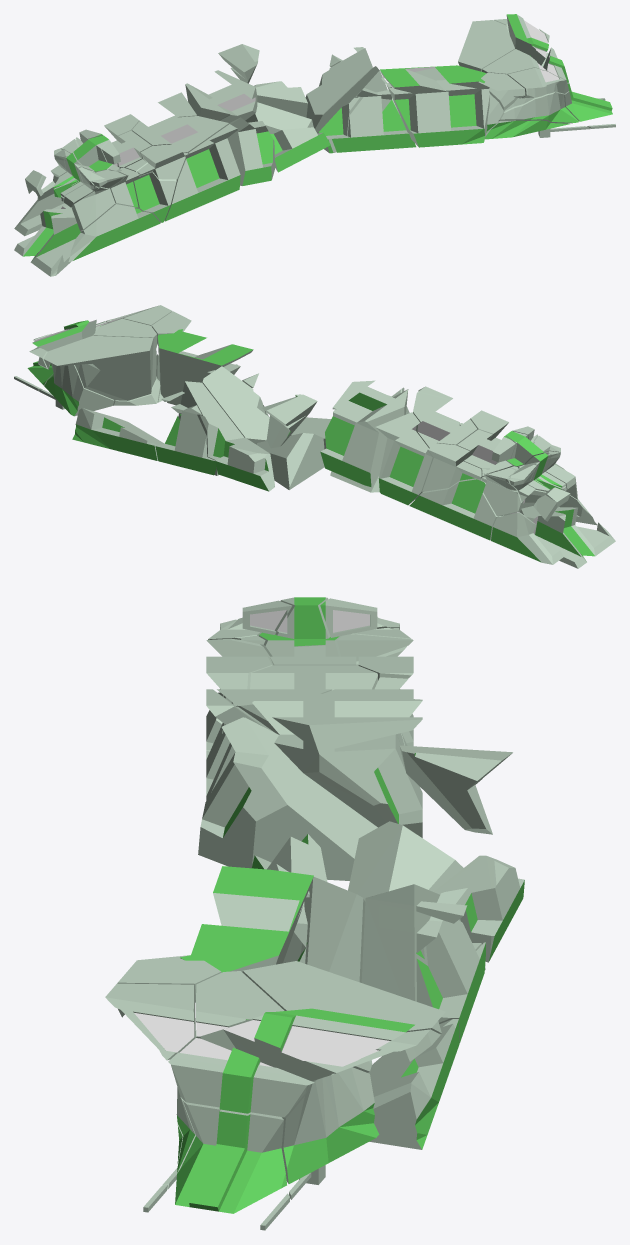
Rendered from Drednaught-Shatter1.fbx.
3 renders of one model, top to bottom at view 1: azimuth 30°, elevation 25°; view 2: azimuth 150°, elevation 25°; view 3: azimuth 270°, elevation 25°, orthographic. The views are drawn at different scales.
Visible parts, largest first — view 1: DeadnaughtHi_cell.024, DeadnaughtHi_cell.047, DeadnaughtHi_cell.031, DeadnaughtHi_cell.011, DeadnaughtHi_cell.016, DeadnaughtHi_cell.034, DeadnaughtHi_cell.043, DeadnaughtHi_cell.046, DeadnaughtHi_cell.023, DeadnaughtHi_cell.015, DeadnaughtHi_cell.007, DeadnaughtHi_cell.030 (+24 smaller); view 2: DeadnaughtHi_cell.043, DeadnaughtHi_cell.023, DeadnaughtHi_cell.033, DeadnaughtHi_cell.024, DeadnaughtHi_cell.027, DeadnaughtHi_cell.011, DeadnaughtHi_cell.007, DeadnaughtHi_cell.040, DeadnaughtHi_cell.048, DeadnaughtHi_cell.021, DeadnaughtHi_cell.008, DeadnaughtHi_cell.046 (+23 smaller); view 3: DeadnaughtHi_cell.016, DeadnaughtHi_cell.043, DeadnaughtHi_cell.057, DeadnaughtHi_cell.024, DeadnaughtHi_cell.041, DeadnaughtHi_cell.051, DeadnaughtHi_cell.037, DeadnaughtHi_cell.040, DeadnaughtHi_cell.023, DeadnaughtHi_cell.046, DeadnaughtHi_cell.048, DeadnaughtHi_cell.021 (+20 smaller).
Boxes of the visible parts, bbox=[...] form: DeadnaughtHi_cell.024: bbox=[380, 65, 489, 147]; DeadnaughtHi_cell.047: bbox=[164, 124, 240, 221]; DeadnaughtHi_cell.031: bbox=[332, 88, 416, 152]; DeadnaughtHi_cell.011: bbox=[14, 206, 81, 276]; DeadnaughtHi_cell.016: bbox=[187, 117, 274, 185]; DeadnaughtHi_cell.034: bbox=[68, 204, 160, 261]; DeadnaughtHi_cell.043: bbox=[185, 70, 257, 122]; DeadnaughtHi_cell.046: bbox=[305, 48, 372, 128]; DeadnaughtHi_cell.023: bbox=[458, 20, 514, 71]; DeadnaughtHi_cell.015: bbox=[132, 116, 228, 153]; DeadnaughtHi_cell.007: bbox=[315, 66, 387, 153]; DeadnaughtHi_cell.030: bbox=[270, 127, 330, 172]; DeadnaughtHi_cell.043: bbox=[320, 380, 408, 487]; DeadnaughtHi_cell.023: bbox=[43, 335, 153, 400]; DeadnaughtHi_cell.033: bbox=[375, 412, 433, 505]; DeadnaughtHi_cell.024: bbox=[157, 329, 253, 405]; DeadnaughtHi_cell.027: bbox=[409, 478, 503, 540]; DeadnaughtHi_cell.011: bbox=[519, 506, 615, 568]; DeadnaughtHi_cell.007: bbox=[202, 366, 269, 444]; DeadnaughtHi_cell.040: bbox=[72, 408, 163, 460]; DeadnaughtHi_cell.048: bbox=[155, 404, 216, 475]; DeadnaughtHi_cell.021: bbox=[256, 433, 324, 489]; DeadnaughtHi_cell.008: bbox=[215, 437, 274, 491]; DeadnaughtHi_cell.046: bbox=[178, 381, 244, 475]; DeadnaughtHi_cell.016: bbox=[198, 717, 377, 880]; DeadnaughtHi_cell.043: bbox=[252, 693, 422, 837]; DeadnaughtHi_cell.057: bbox=[175, 1100, 286, 1213]; DeadnaughtHi_cell.024: bbox=[180, 866, 313, 1037]; DeadnaughtHi_cell.041: bbox=[223, 1008, 414, 1081]; DeadnaughtHi_cell.051: bbox=[281, 1067, 379, 1199]; DeadnaughtHi_cell.037: bbox=[168, 1038, 314, 1117]; DeadnaughtHi_cell.040: bbox=[367, 1019, 459, 1149]; DeadnaughtHi_cell.023: bbox=[242, 961, 445, 1072]; DeadnaughtHi_cell.046: bbox=[361, 884, 485, 1001]; DeadnaughtHi_cell.048: bbox=[416, 888, 485, 1042]; DeadnaughtHi_cell.021: bbox=[348, 821, 463, 901].
Bounding box in the file's own units: 1264 × 246 × 405.
